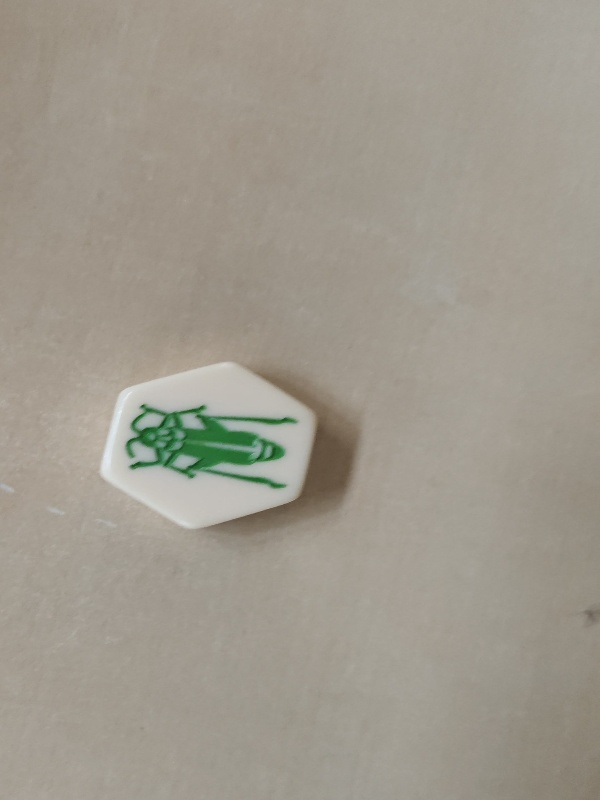white_grasshopper: (108, 353, 317, 535)
